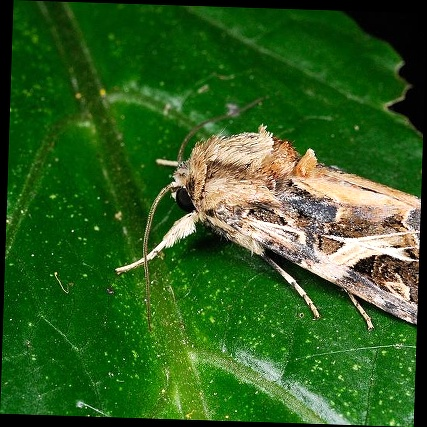Spodoptera litura: (116, 98, 421, 336)
